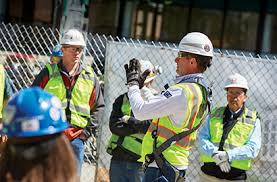Hard Hat: (173, 31, 217, 56), (130, 64, 162, 83), (60, 29, 89, 48), (224, 74, 251, 89)
High Viz: (146, 81, 212, 159), (203, 107, 258, 164), (47, 62, 90, 125), (123, 91, 148, 151)
